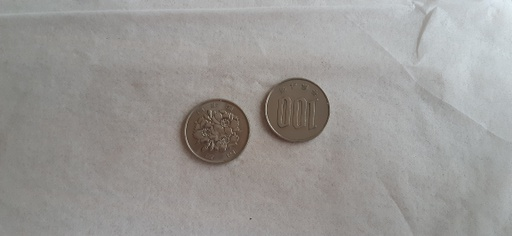100yen: (183, 100, 249, 163), (265, 79, 329, 142)
